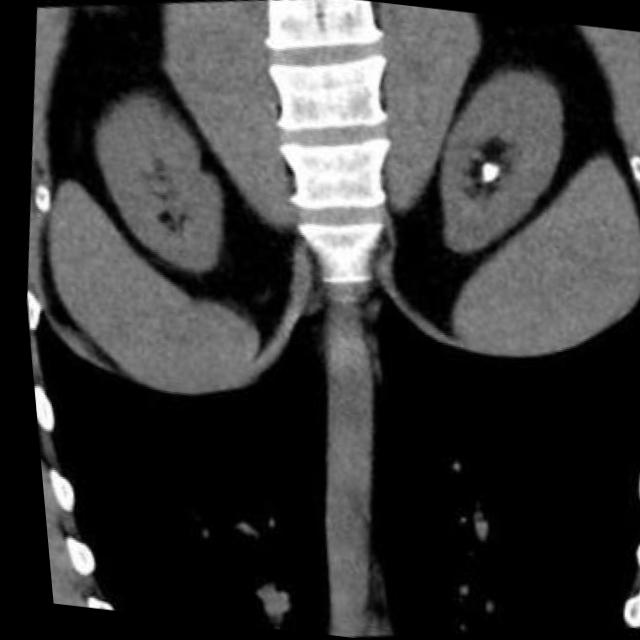Tas_Var: (470, 153, 505, 190)
